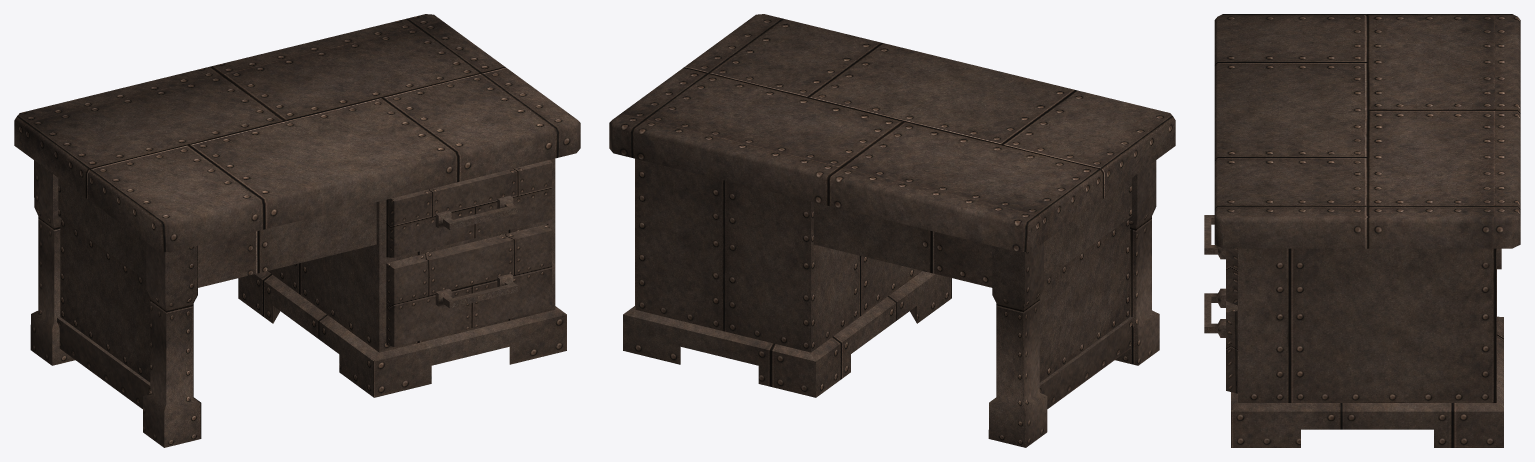
Rendered from Work_Table_Metal.fbx.
3 views of the same model, side by side, from view 1: azimuth 30°, elevation 25°; view 2: azimuth 150°, elevation 25°; view 3: azimuth 270°, elevation 25° (orthographic).
Parts seen in each view (by area): view 1: Work_Table_Metal; view 2: Work_Table_Metal; view 3: Work_Table_Metal.
Boxes of the visible parts, x1,y1,x2,y2 form: Work_Table_Metal: (14,14,580,447); Work_Table_Metal: (609,14,1175,447); Work_Table_Metal: (1204,14,1520,447).
Size of the model in its own units: 135 by 70.94 by 87.24.
